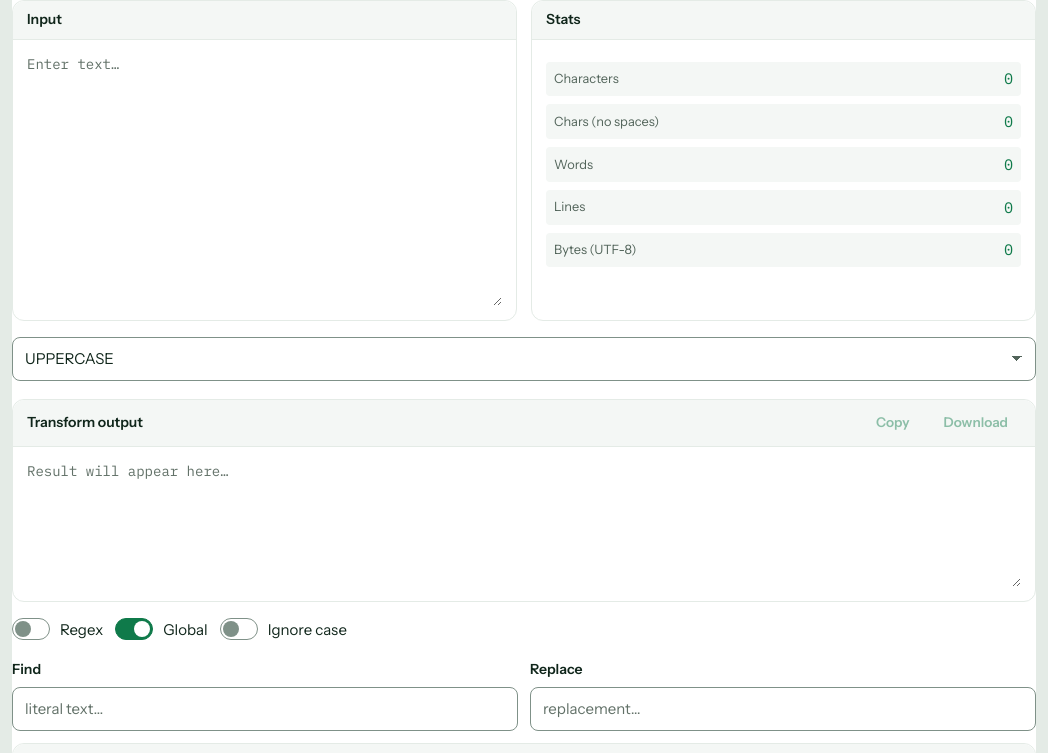
Scenario: StringUtilities › reverses a string
In the text box with placeholder "Enter text…": (264, 180) [27,54,502,306], type "abc"
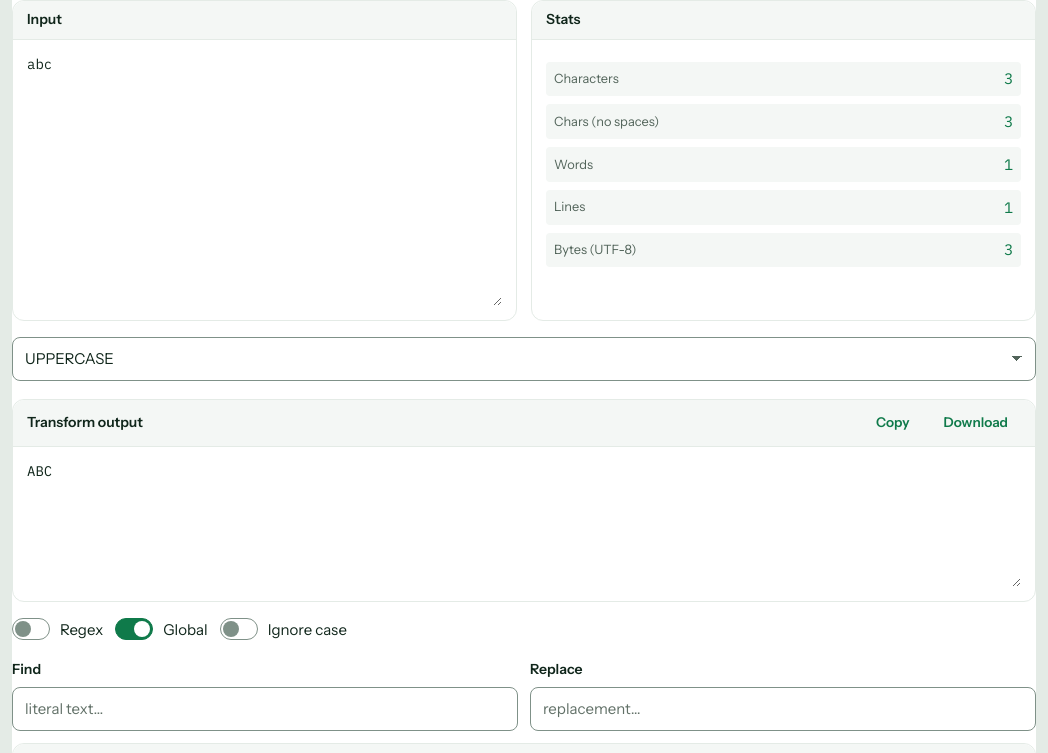
Select "Reverse string" in the dropdown: (524, 359) [12,337,1036,381]
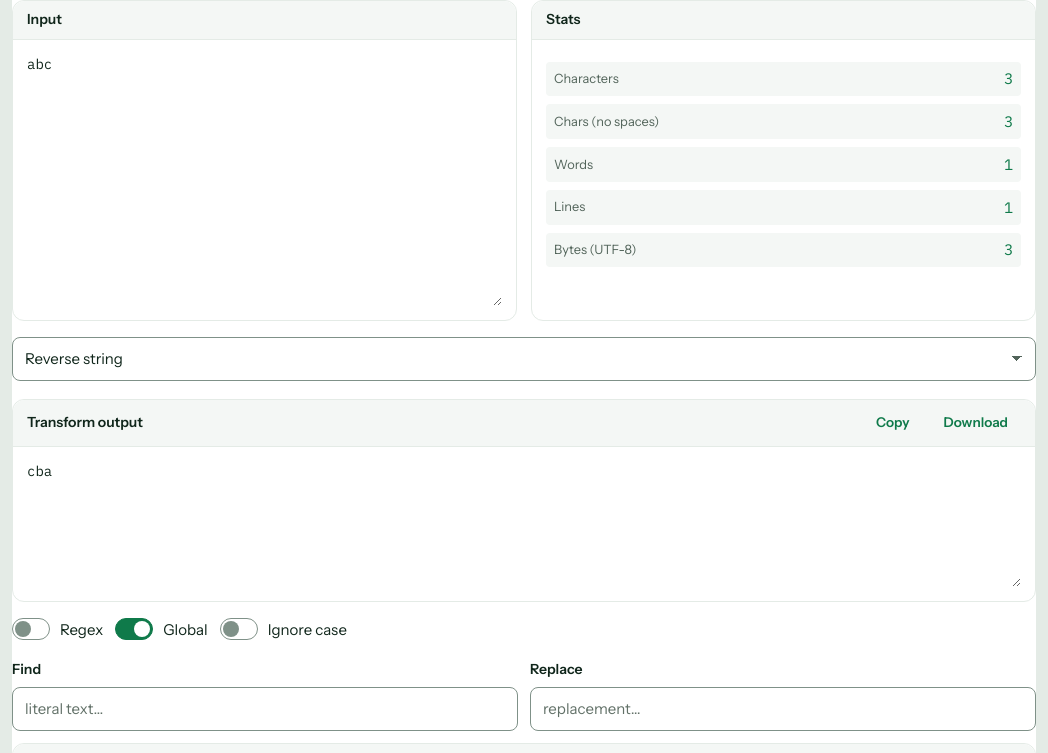
Now the text box with placeholder "Result will appear here…" below "Transform output" holds "cba", box [27,461,1021,587]
